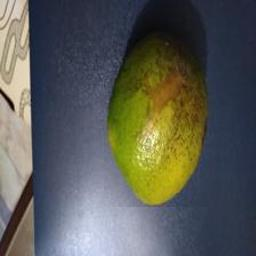Orange Semirotten: (104, 30, 229, 208)
